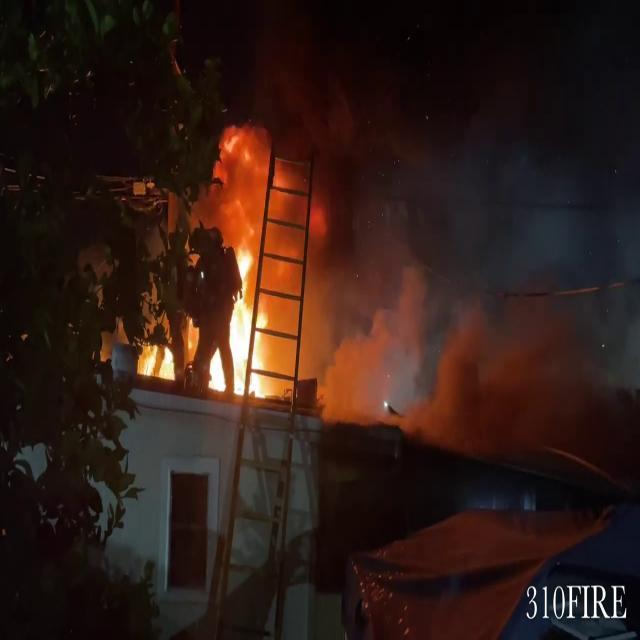Fire: (205, 240, 282, 402), (134, 333, 179, 386)
Smoke: (246, 3, 640, 438)
